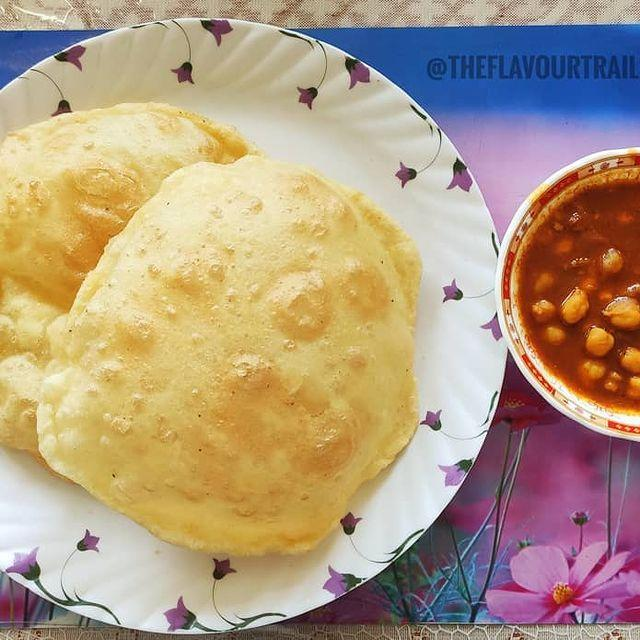Chole: (546, 263, 640, 406)
